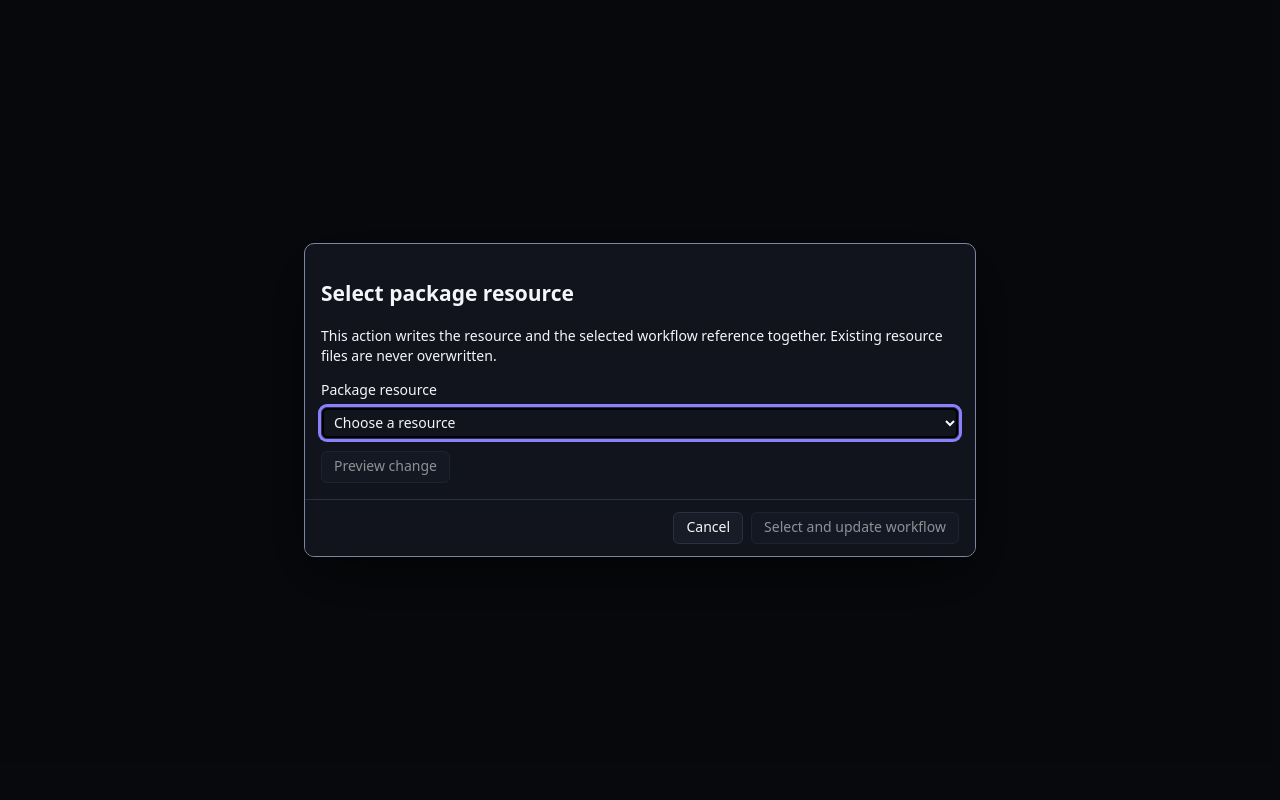
Scenario: invalidates a preview after the request changes and preserves errors
The image size is (1280, 800).
Select "p/a" in the dropdown labelled "Package resource": coordinates (640, 423) [321, 407, 959, 439]
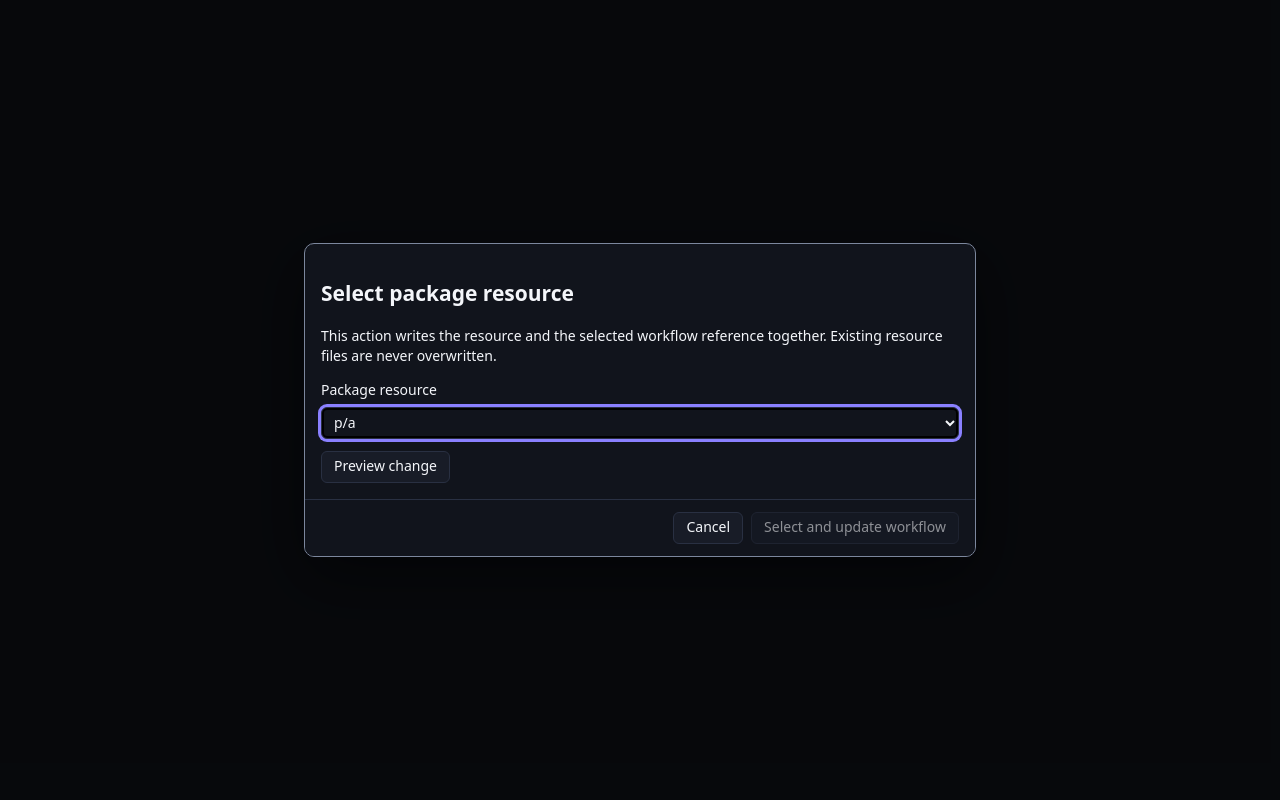
Click the button "Preview change": coordinates (386, 467) [321, 451, 450, 483]
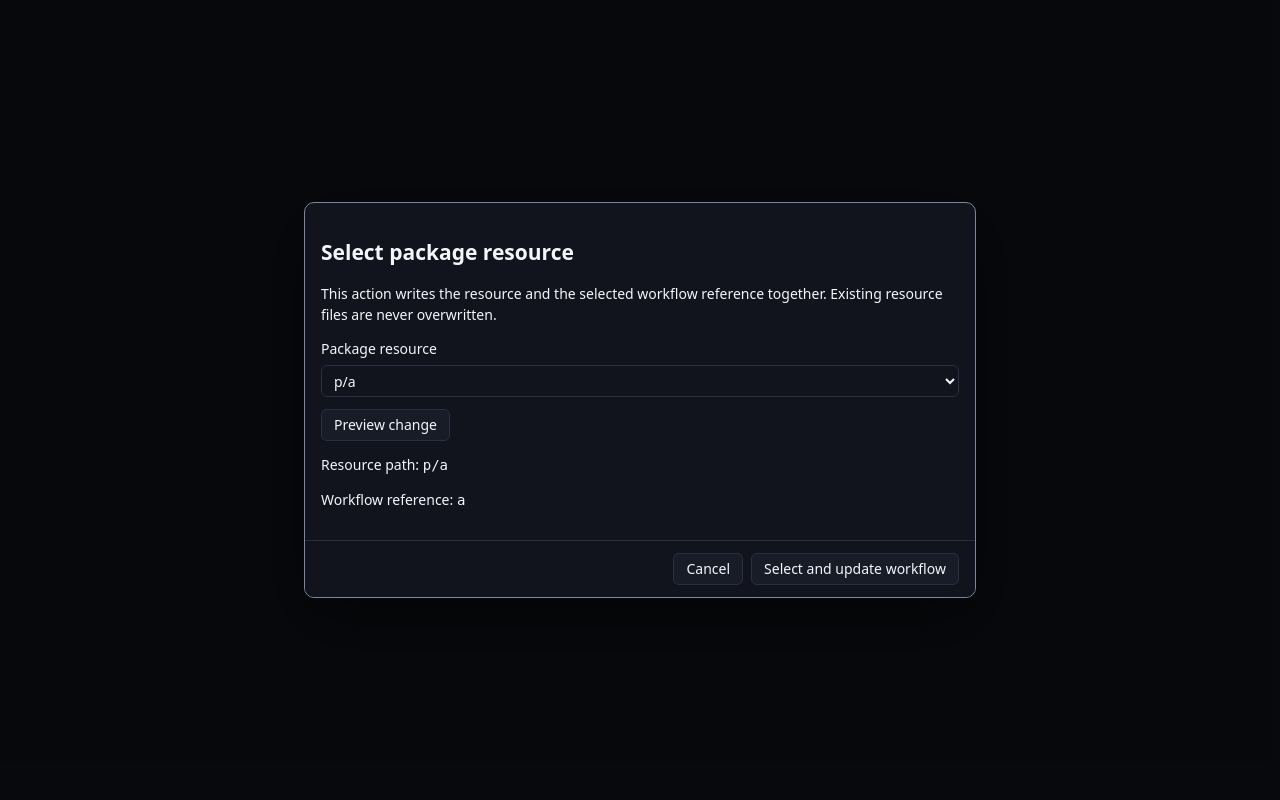
Select "p/b" in the dropdown labelled "Package resource": coordinates (640, 381) [321, 365, 959, 397]
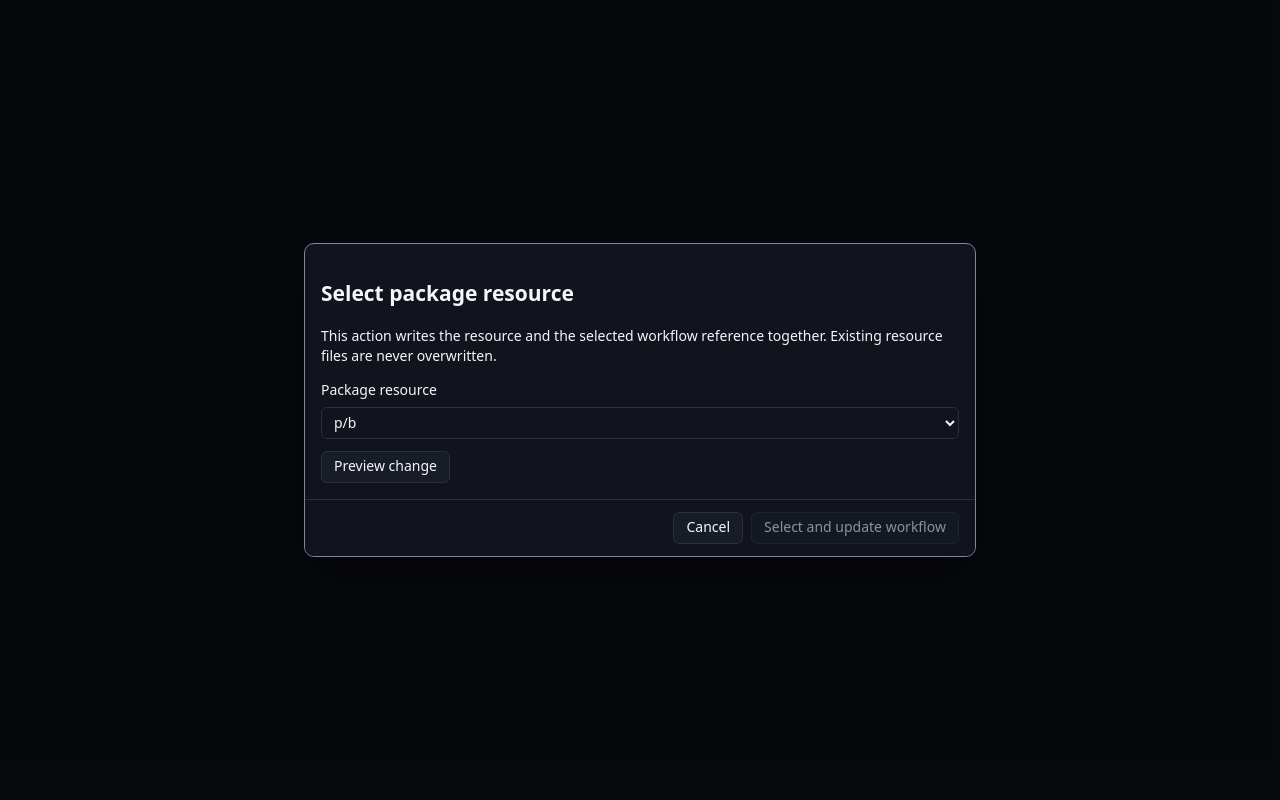
Result: the button "Select and update workflow" is disabled at [751, 512, 959, 544]
Click the button "Preview change": coordinates (386, 467) [321, 451, 450, 483]
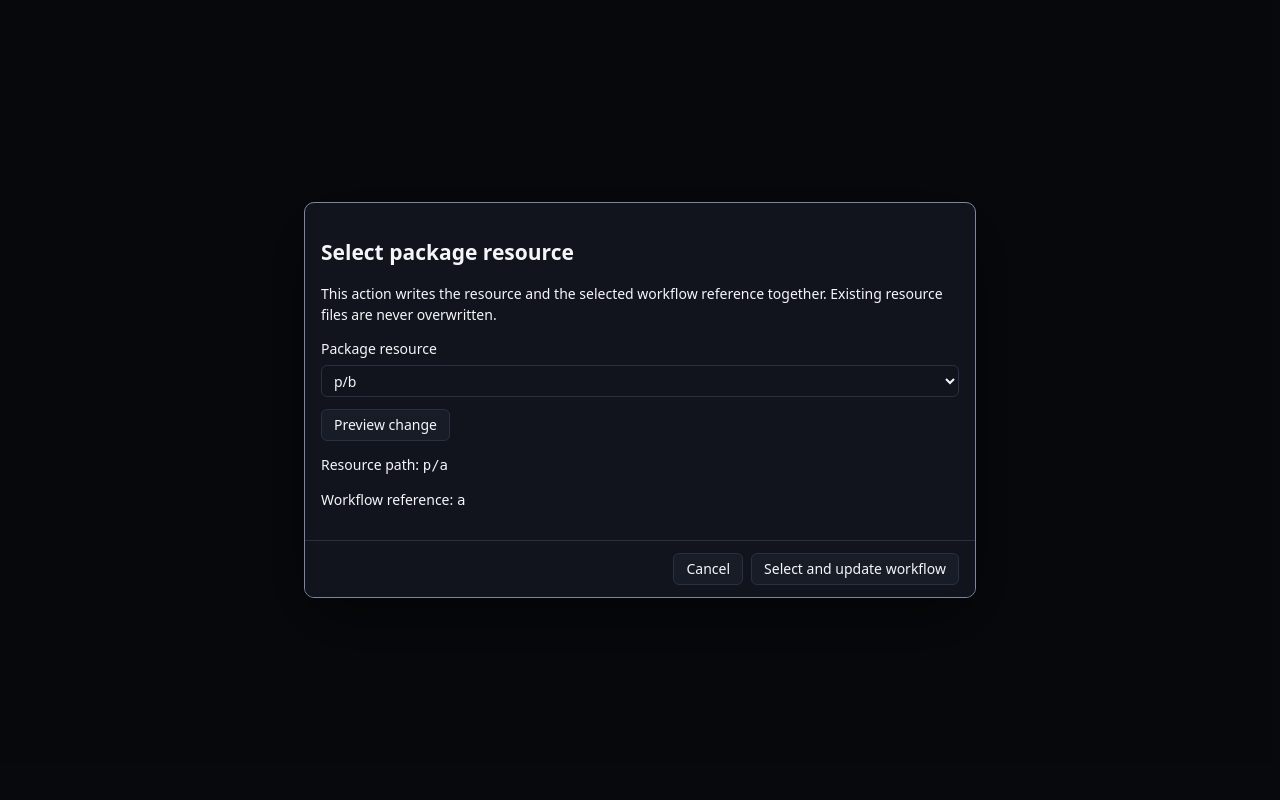
Result: the button "Select and update workflow" is enabled
Click the button "Select and update workflow": coordinates (855, 569) [751, 553, 959, 585]
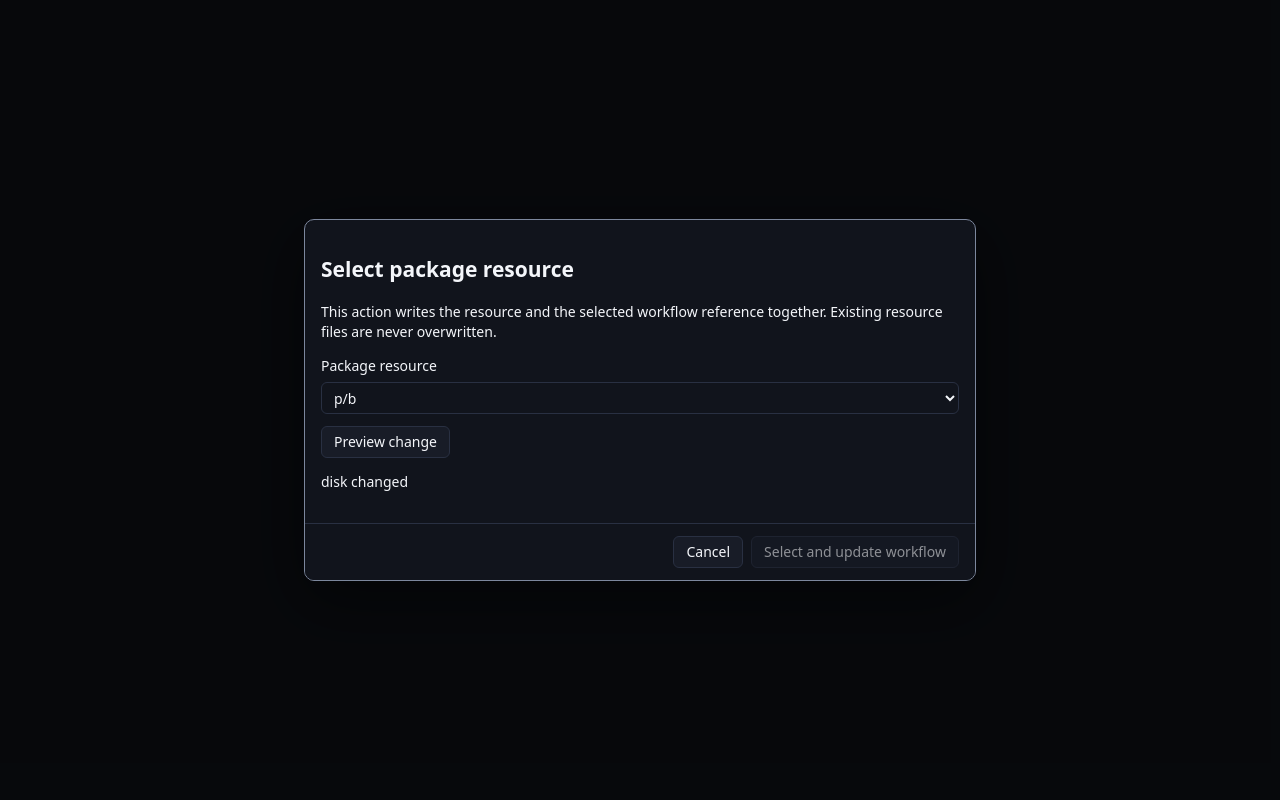
Result: the message reads "disk changed" at [321, 472, 408, 491]
